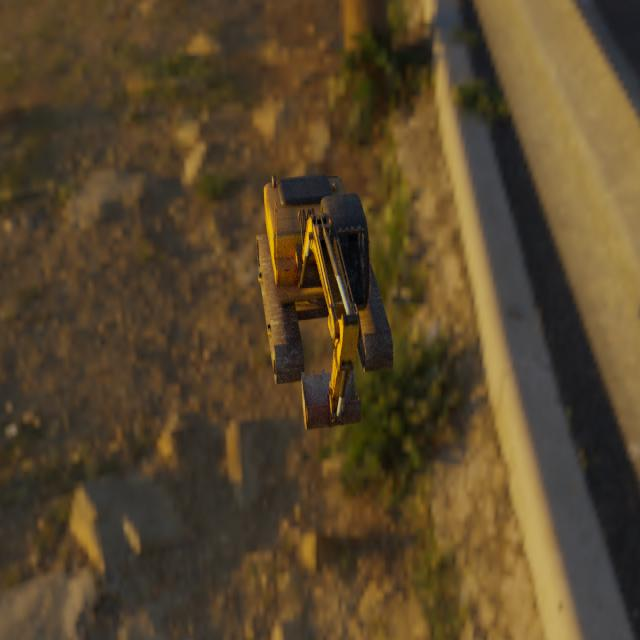excavator: (256, 173, 394, 431)
